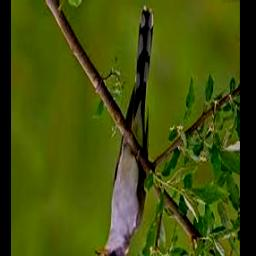Cuckoo: (95, 6, 154, 256)
